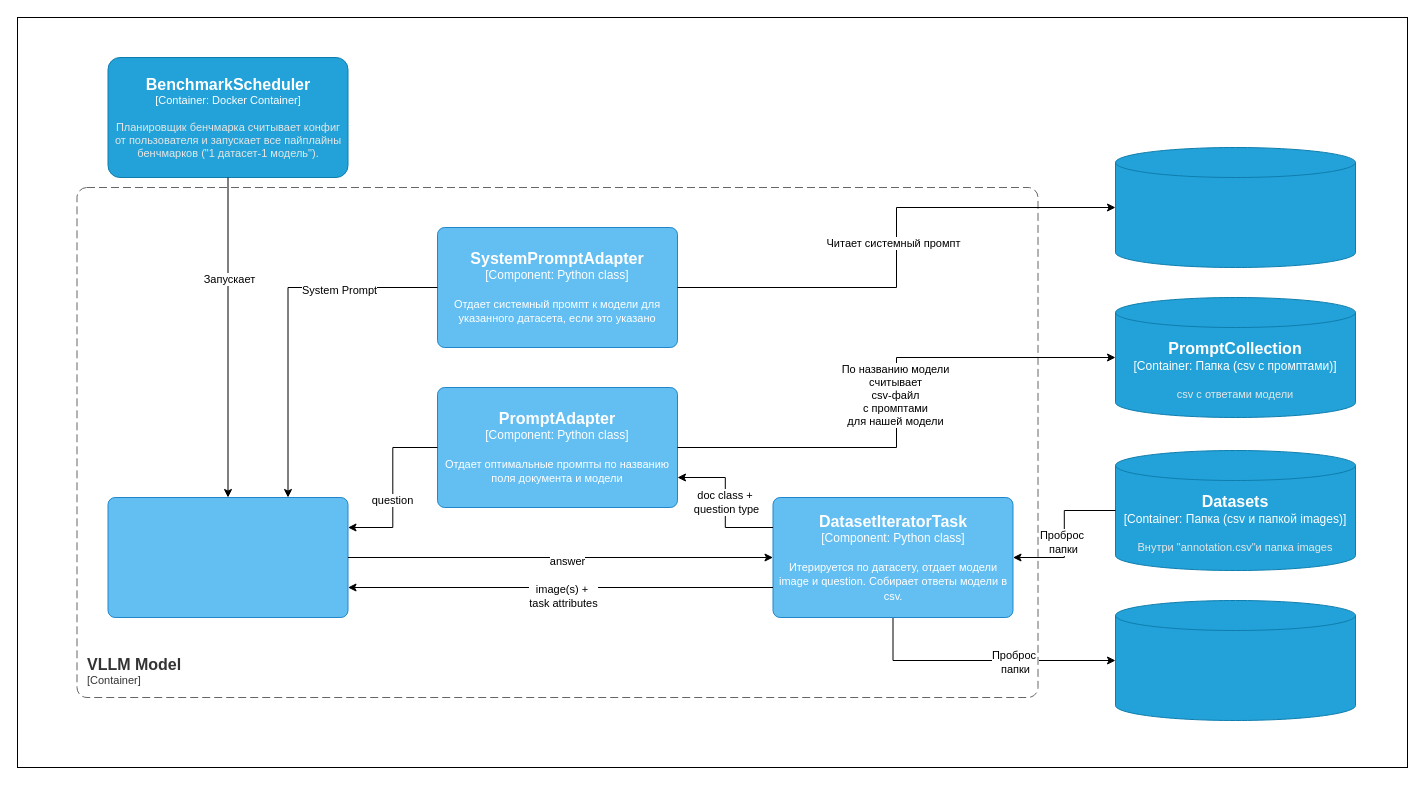
The diagram is 1425 pixels wide and 785 high, and some of its shapes have lost their labels. The shapes that lost their labels are listed below. From the top down, each one's box as (x1, y1, x2, y2) in pixels, then its label:
(1114, 146, 1356, 268): SystemPrompts [Container: Папка c папками с одним txt] txt c системным промптом
(107, 496, 348, 618): VLLM [Class: Hugging Face, vLLM, ] Класс реализующий модель
(1114, 600, 1356, 720): ModelsAnswers [Container: Папка (csv с ответами)] csv с ответами модели
